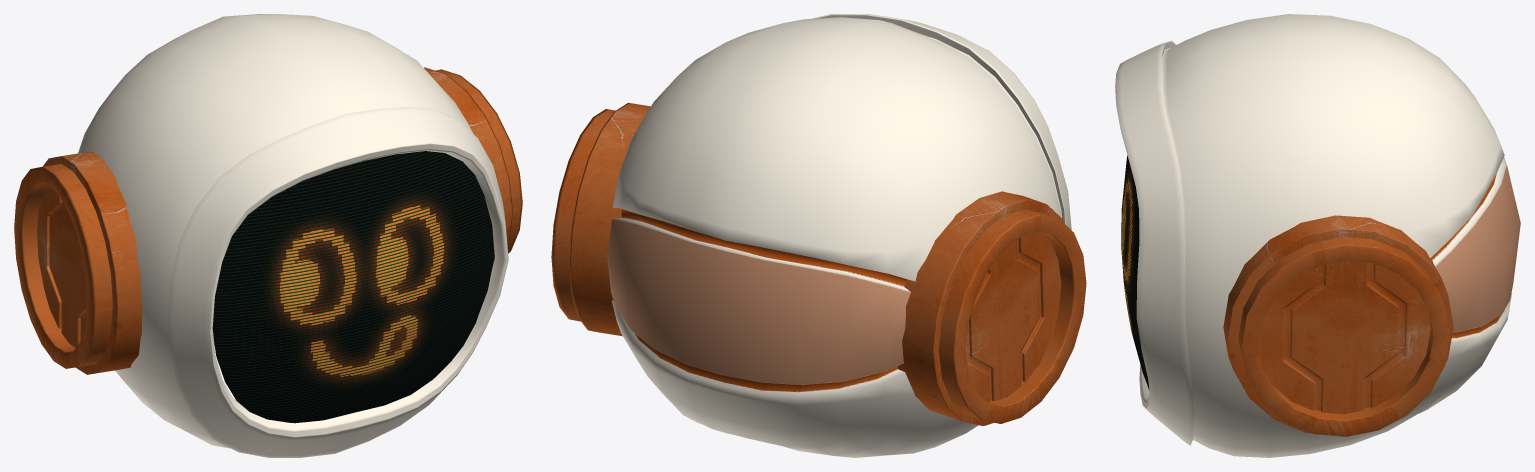
Rendered from head_06.glb.
3 views of the same model, side by side, from view 1: azimuth 30°, elevation 25°; view 2: azimuth 150°, elevation 25°; view 3: azimuth 270°, elevation 25° (orthographic). The views are drawn at different scales.
Visible parts, largest first — view 1: head, mask, ear; view 2: head, ear; view 3: head, ear, mask.
Boxes of the visible parts, x1,y1,x2,y2 form: head: (78, 14, 508, 457); mask: (212, 151, 494, 423); ear: (14, 67, 522, 374); head: (607, 14, 1071, 457); ear: (551, 102, 1086, 425); head: (1115, 14, 1520, 457); ear: (1223, 215, 1453, 436); mask: (1121, 155, 1149, 389).
Bounding box in the file's own units: 0.0778 × 0.0671 × 0.062.
Materials: 2 (2 with a texture image).
